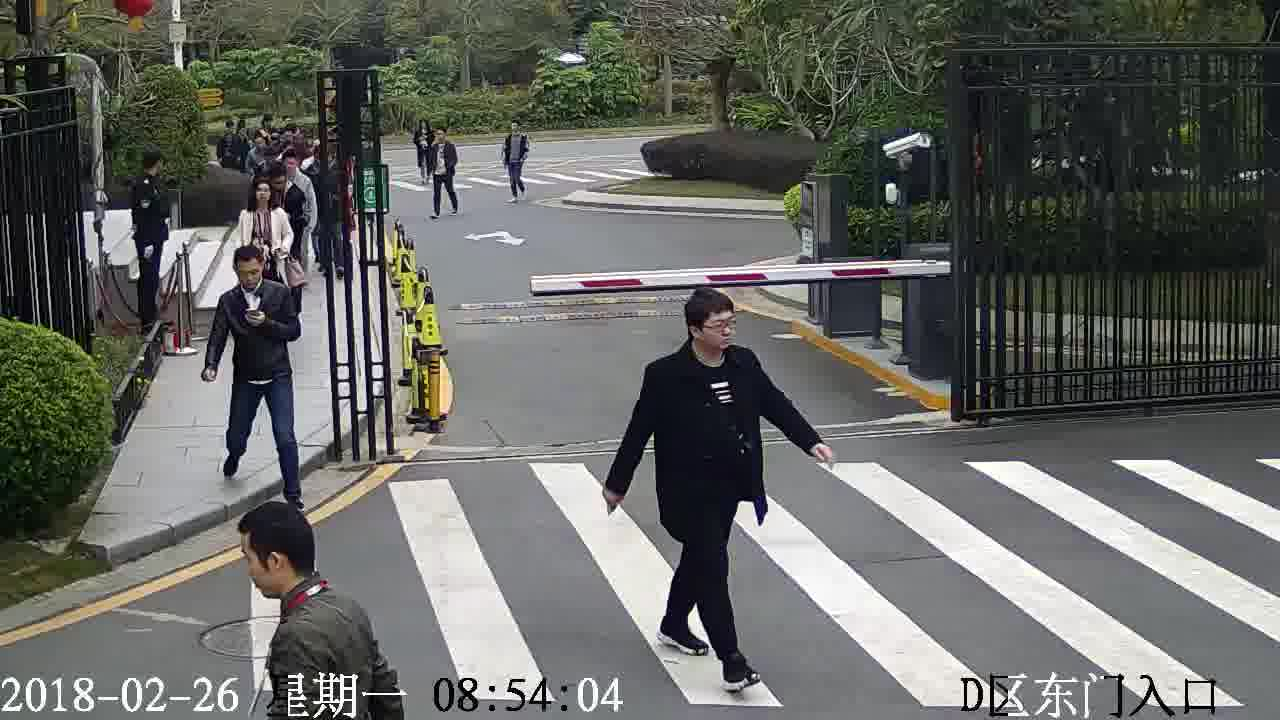face: (235, 530, 289, 600), (691, 309, 739, 356), (231, 256, 264, 293)
person: (229, 499, 371, 647), (639, 287, 767, 395), (223, 241, 289, 305), (239, 175, 287, 229), (130, 147, 165, 196), (265, 164, 301, 206), (281, 147, 313, 189), (501, 119, 530, 150), (432, 127, 459, 156), (251, 113, 276, 138), (414, 114, 437, 139)
